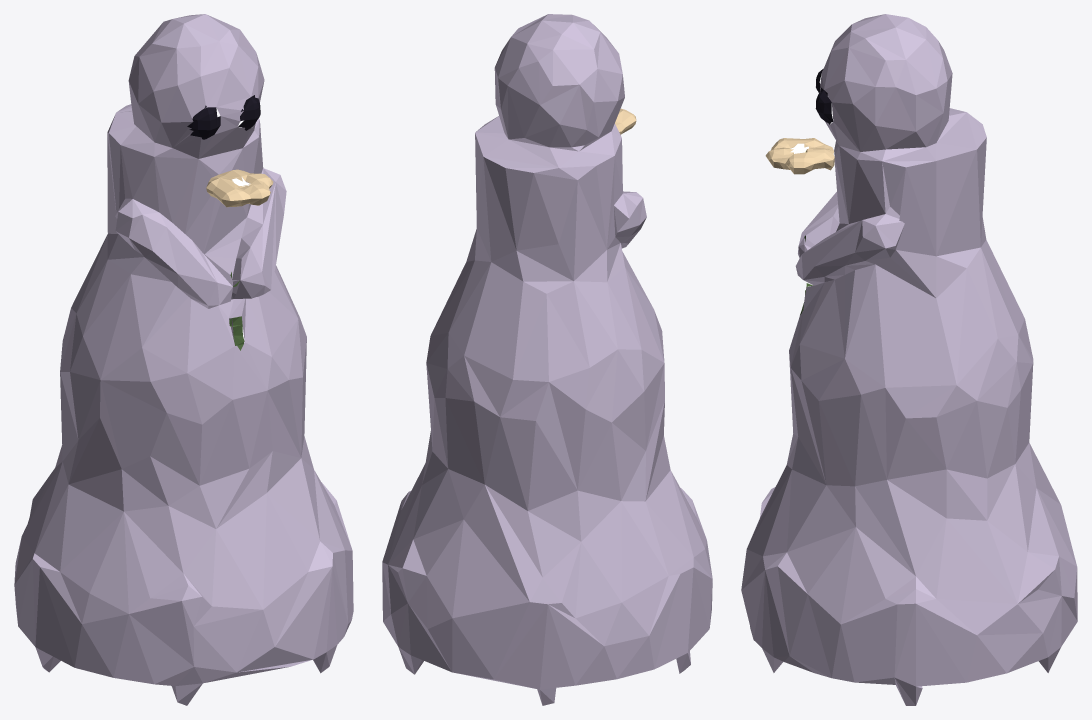
File: spirit_mourner.glb
3 views of the same model, side by side, from view 1: azimuth 30°, elevation 25°; view 2: azimuth 150°, elevation 25°; view 3: azimuth 270°, elevation 25° (orthographic). The views are drawn at different scales.
Parts seen in each view (by area): view 1: spirit_mourner; view 2: spirit_mourner; view 3: spirit_mourner.
Part boxes in pixels (left/top/right/bottom): spirit_mourner: left=14, top=14, right=353, bottom=705; spirit_mourner: left=382, top=14, right=712, bottom=705; spirit_mourner: left=741, top=14, right=1077, bottom=705.
Bounding box in the file's own units: 0.8441 × 1.72 × 0.8455.
